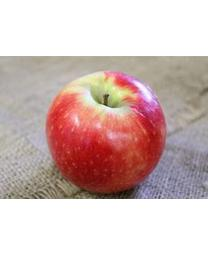apple: (44, 70, 166, 193)
